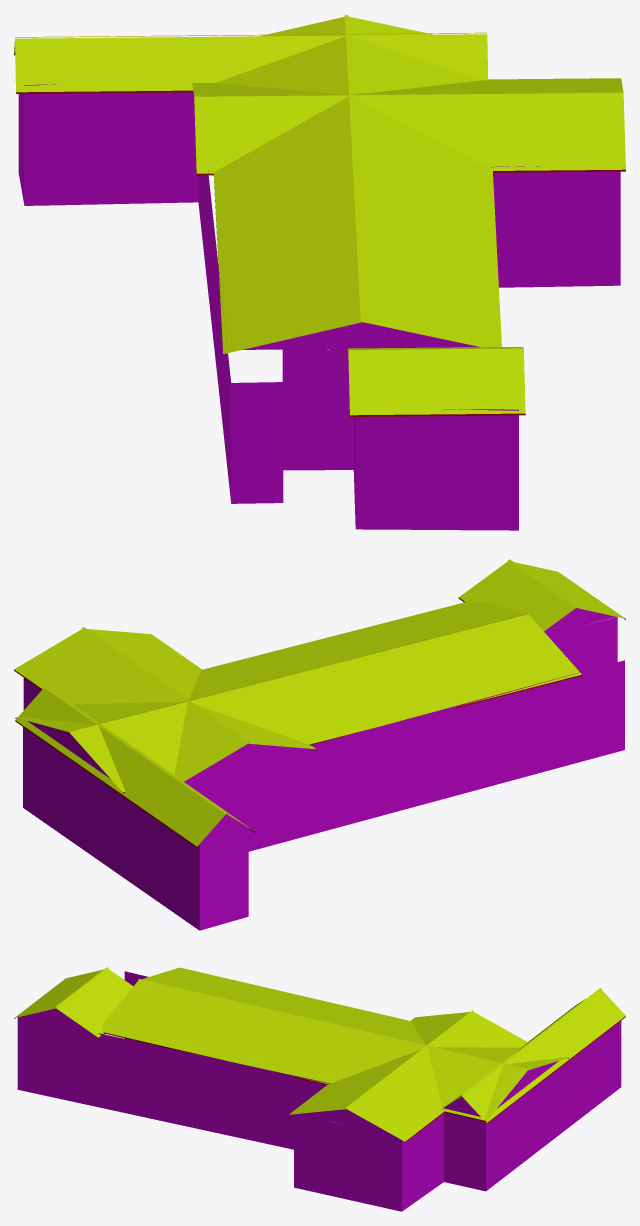
The model's file is vzc_75.glb.
3 renders of one model, top to bottom at view 1: azimuth 30°, elevation 25°; view 2: azimuth 150°, elevation 25°; view 3: azimuth 270°, elevation 25°, orthographic. The views are drawn at different scales.
Parts seen in each view (by area): view 1: vzc_75; view 2: vzc_75; view 3: vzc_75.
Part boxes in pixels (box(x1,y1,x2,y2)): vzc_75: box(14, 14, 625, 530); vzc_75: box(14, 559, 625, 930); vzc_75: box(14, 967, 625, 1211).
Bounding box in the file's own units: 43.19 × 10.35 × 61.55.
